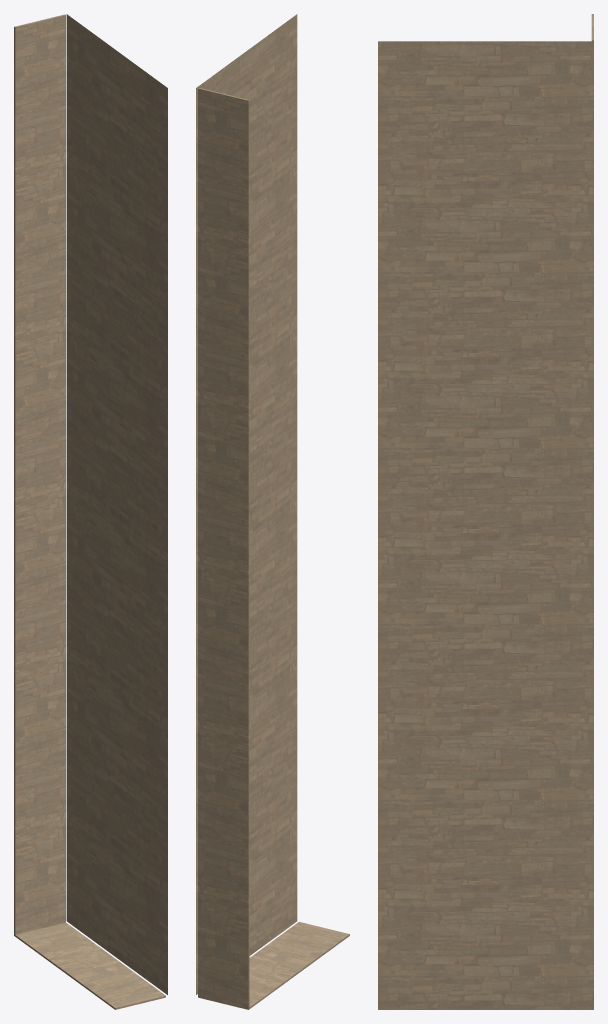
File: rug-receivers-link-north-east.glb
The picture shows the model from 3 angles, left to right: view 1: azimuth 30°, elevation 25°; view 2: azimuth 150°, elevation 25°; view 3: azimuth 270°, elevation 25°; orthographic projection. The views are drawn at different scales.
Visible parts, largest first — view 1: bz06_service_stone-cast; view 2: bz06_service_stone-cast; view 3: bz06_service_stone-cast.
Boxes of the visible parts, bbox=[...] form: bz06_service_stone-cast: bbox=[14, 14, 167, 1009]; bz06_service_stone-cast: bbox=[196, 14, 349, 1009]; bz06_service_stone-cast: bbox=[378, 14, 593, 1009].
Bounding box in the file's own units: 0.6 × 9.92 × 2.
Materials: 1 (1 with a texture image).
